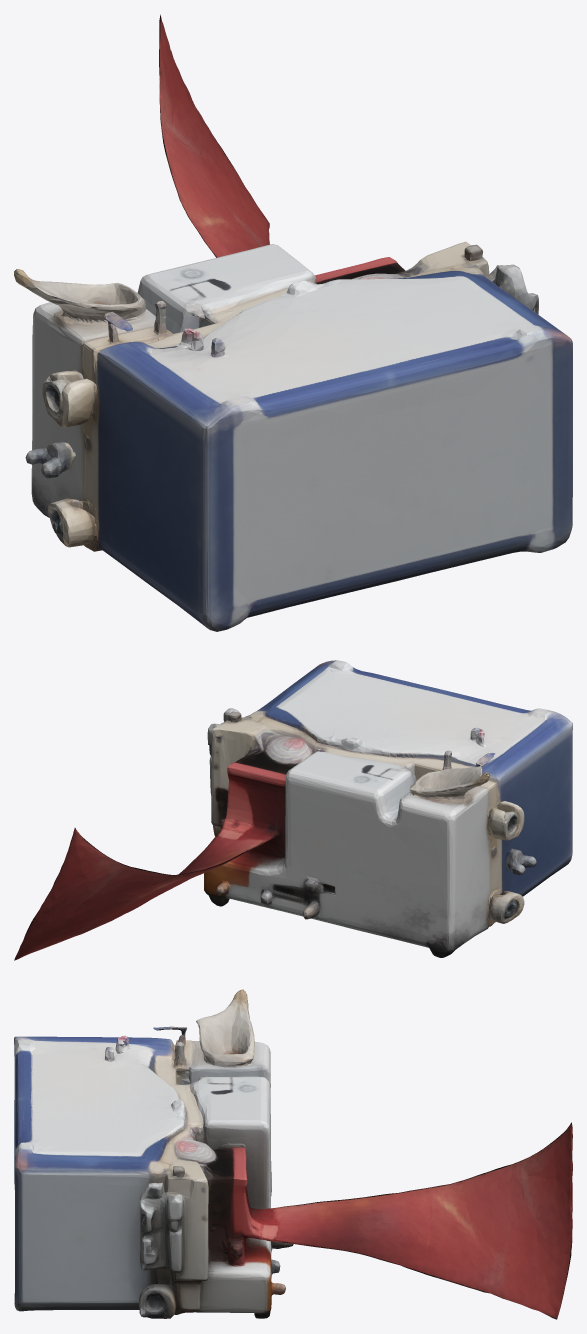
File: apollo-115.glb
3 renders of one model, top to bottom at view 1: azimuth 30°, elevation 25°; view 2: azimuth 150°, elevation 25°; view 3: azimuth 270°, elevation 25°, orthographic. The views are drawn at different scales.
Parts seen in each view (by area): view 1: world; view 2: world; view 3: world.
Part boxes in pixels (box(x1,y1,x2,y2)): world: box(14, 14, 572, 631); world: box(14, 660, 572, 960); world: box(14, 989, 572, 1319).
Size of the model in its own units: 0.7355 by 0.3896 by 1.
1 material, 1 textured.
